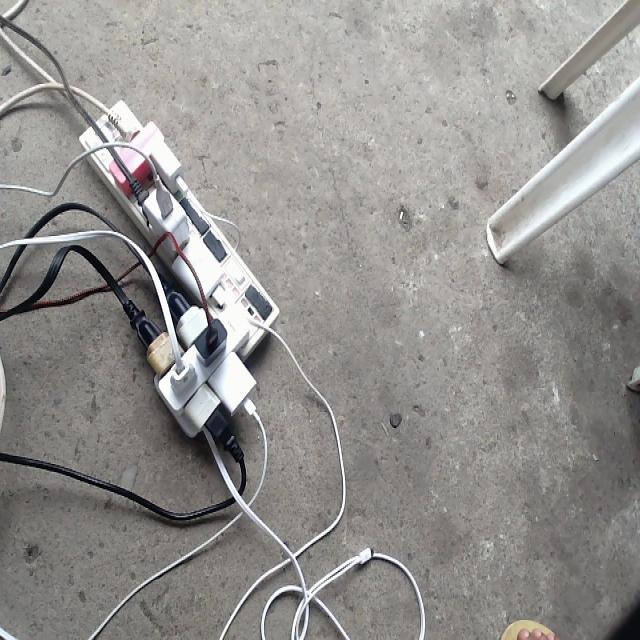-: (69, 84, 302, 472)
